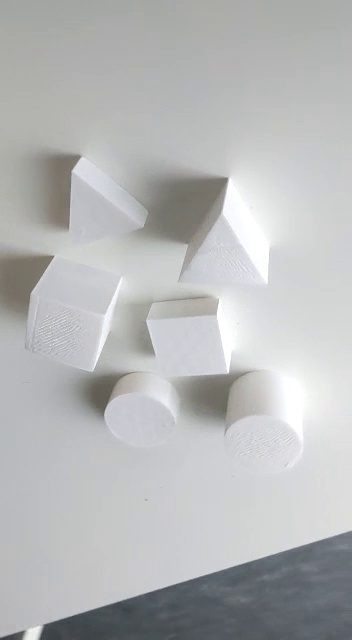Clyinder_short: (102, 368, 180, 451)
Cube: (23, 253, 122, 375)
Cube_short: (141, 295, 235, 385)
Cylinder: (223, 369, 305, 475)
Triangle: (175, 175, 274, 298)
Triangle_short: (65, 156, 150, 259)
